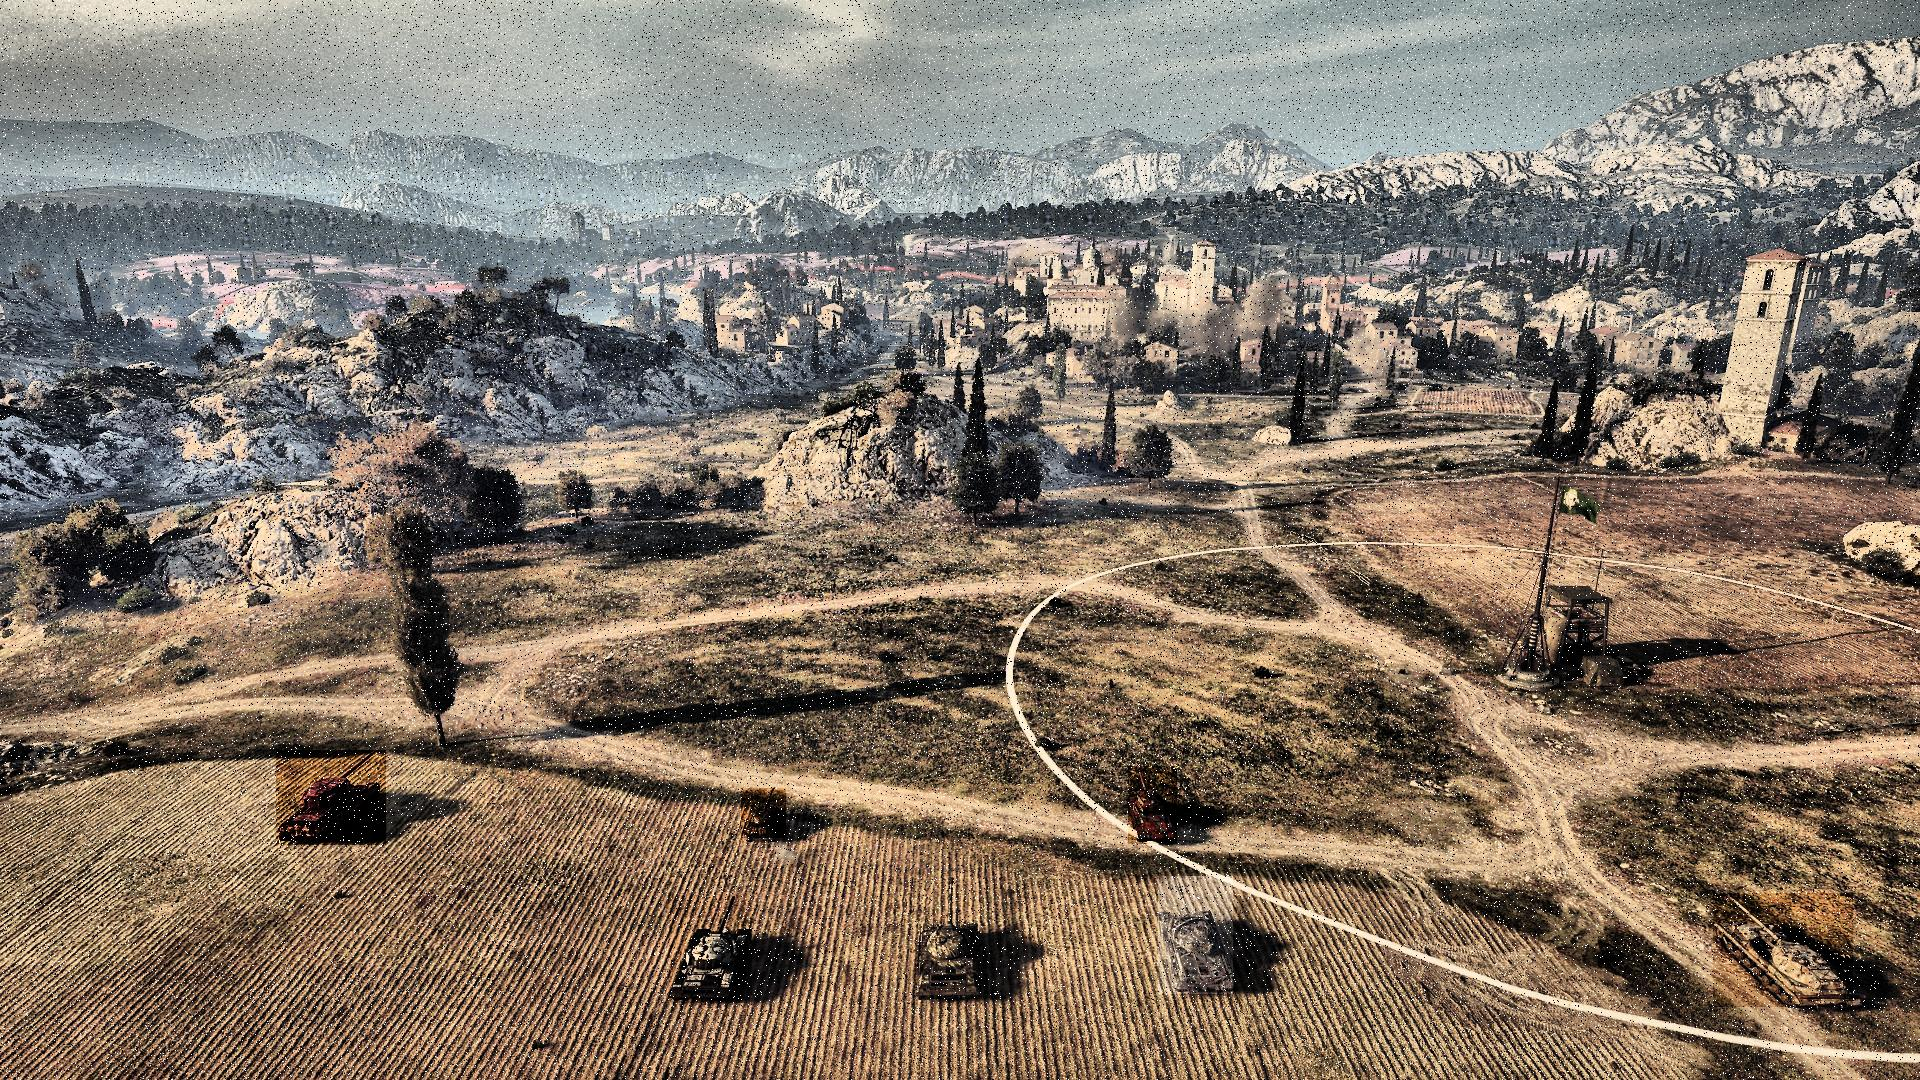military-vehicle: (1713, 893, 1853, 1007), (277, 750, 386, 845), (669, 895, 752, 1004), (913, 877, 982, 1004), (1158, 877, 1233, 994), (1129, 766, 1176, 845), (741, 789, 787, 839)
